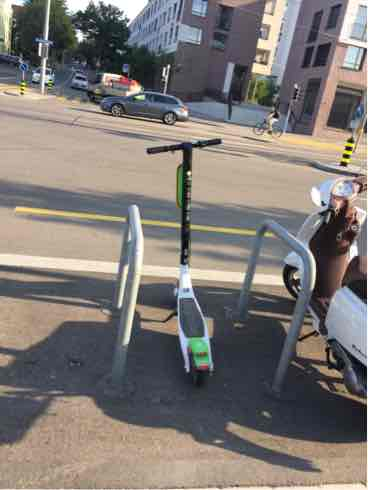scooter: (139, 135, 233, 388)
